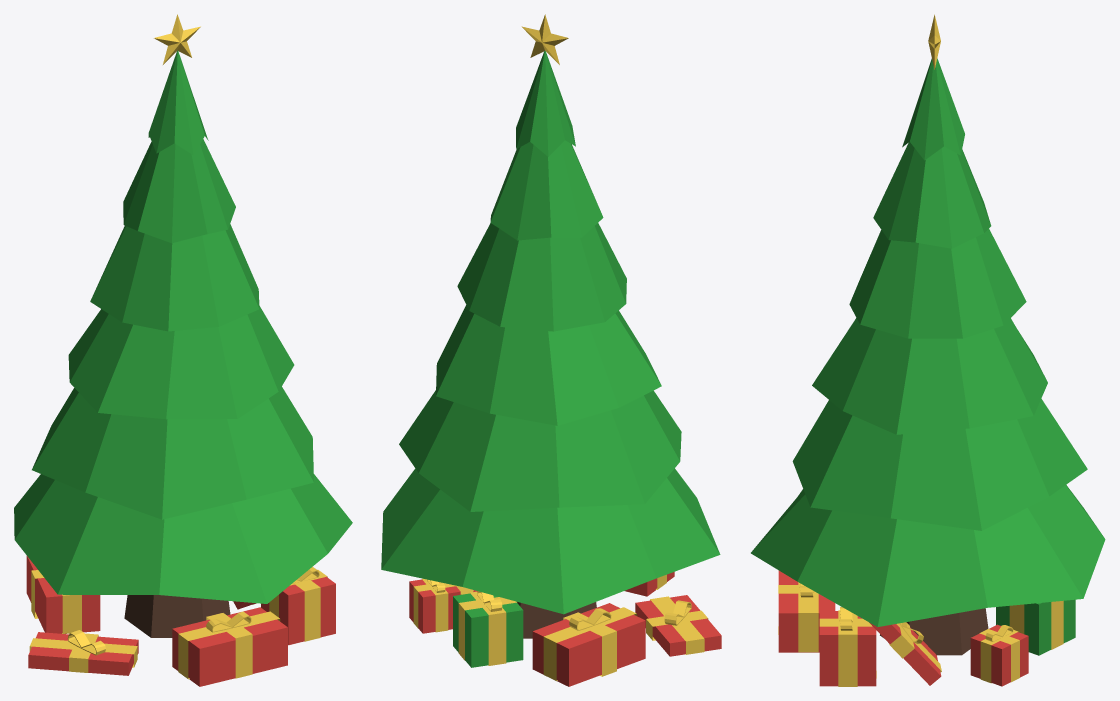
File: chrismastree.glb
The picture shows the model from 3 angles, left to right: view 1: azimuth 30°, elevation 25°; view 2: azimuth 150°, elevation 25°; view 3: azimuth 270°, elevation 25°; orthographic projection. The views are drawn at different scales.
Parts seen in each view (by area): view 1: Cylinder; view 2: Cylinder; view 3: Cylinder.
Boxes of the visible parts, x1,y1,x2,y2 form: Cylinder: [14, 14, 352, 686]; Cylinder: [381, 14, 721, 686]; Cylinder: [751, 14, 1105, 686].
Size of the model in its own units: 3.65 by 6.81 by 3.52.
